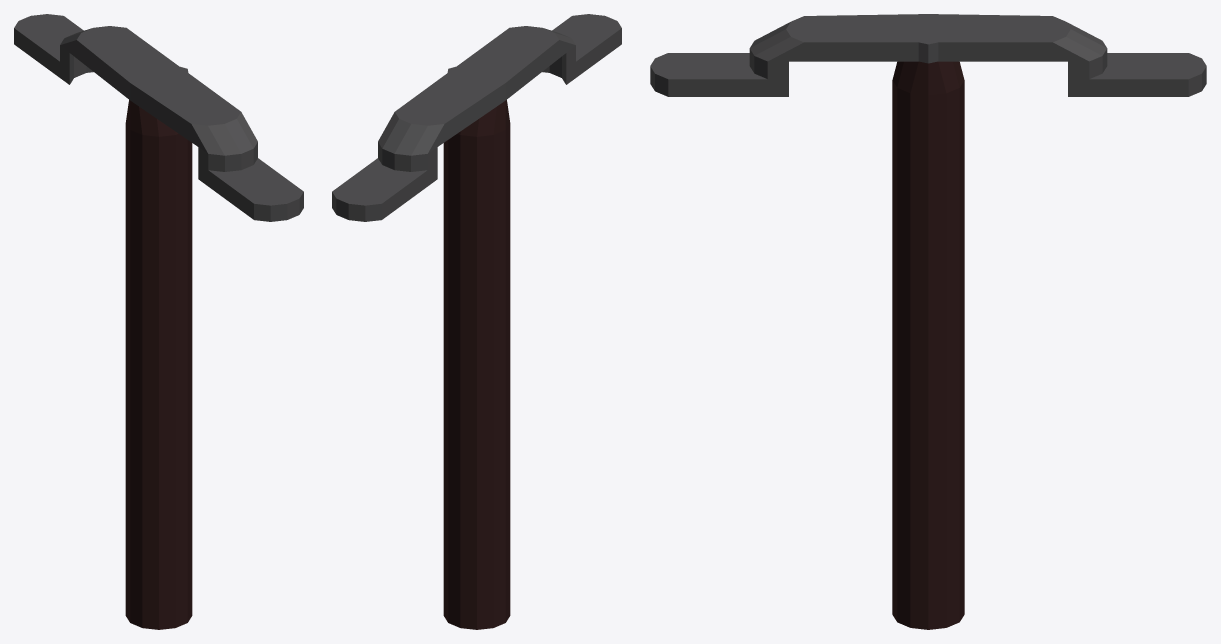
Rendered from kilof.fbx.
The picture shows the model from 3 angles, left to right: view 1: azimuth 30°, elevation 25°; view 2: azimuth 150°, elevation 25°; view 3: azimuth 270°, elevation 25°; orthographic projection. The views are drawn at different scales.
Parts seen in each view (by area): view 1: Cylinder.001, Cylinder; view 2: Cylinder.001, Cylinder; view 3: Cylinder.001, Cylinder.
Boxes of the visible parts, <box> form: Cylinder.001: <box>125,100,192,629</box>; Cylinder: <box>14,14,303,221</box>; Cylinder.001: <box>443,100,510,629</box>; Cylinder: <box>332,14,621,221</box>; Cylinder.001: <box>892,61,964,629</box>; Cylinder: <box>650,14,1206,96</box>.
Bounding box in the file's own units: 40 × 359 × 309.
